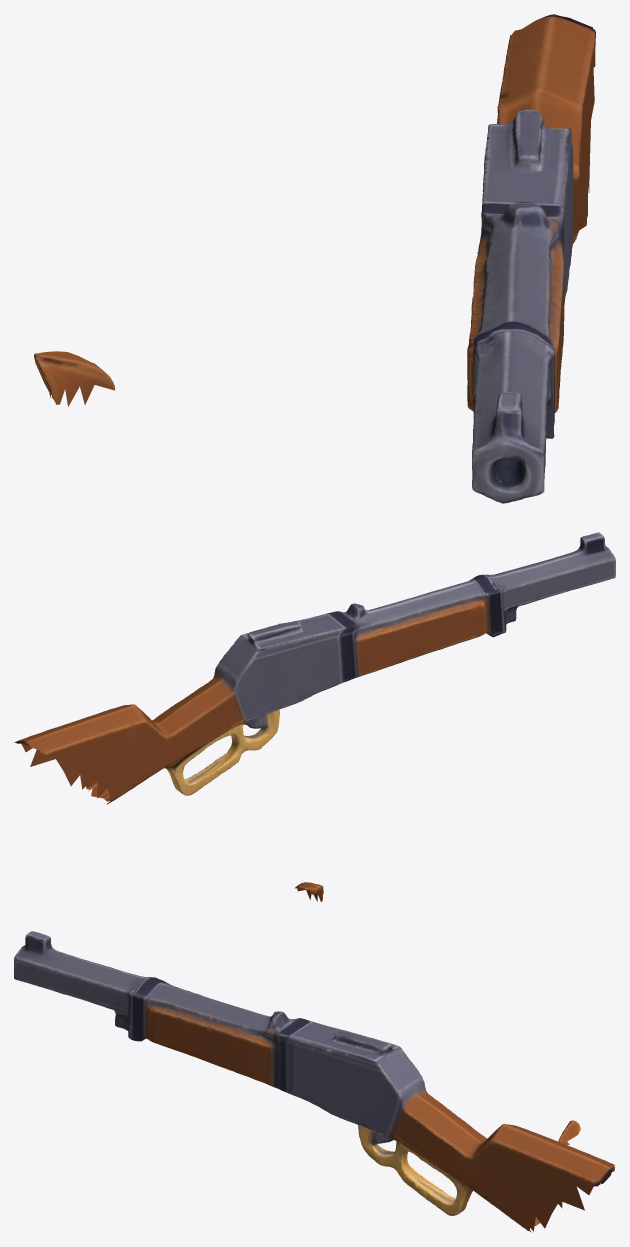
Rendered from rifle.glb.
3 renders of one model, top to bottom at view 1: azimuth 30°, elevation 25°; view 2: azimuth 150°, elevation 25°; view 3: azimuth 270°, elevation 25°, orthographic. The views are drawn at different scales.
Visible parts, largest first — view 1: rifle; view 2: rifle; view 3: rifle.
Boxes of the visible parts, bbox=[...] form: rifle: bbox=[34, 14, 595, 503]; rifle: bbox=[14, 532, 615, 901]; rifle: bbox=[14, 931, 614, 1232].
Bounding box in the file's own units: 0.6001 × 0.3327 × 0.8988.
1 material, 1 textured.
